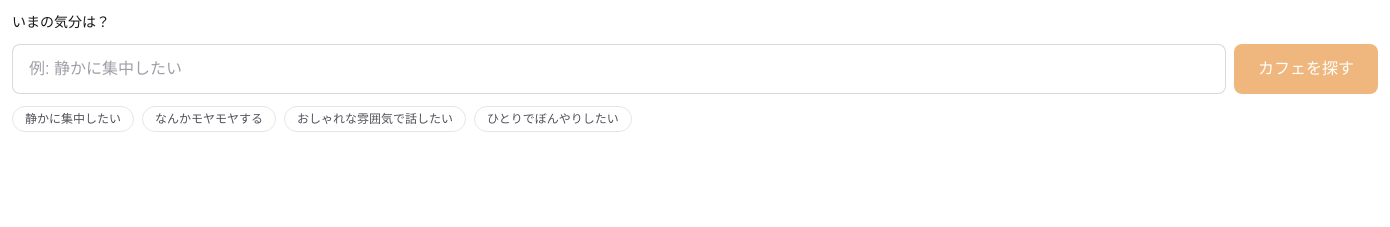
Test: MoodRecommender（統合） › 通信に失敗したらメッセージが出る
Type "静かに集中したい" into the field labelled "いまの気分は？".
click(619, 69); type("静かに集中したい")  # box [12, 44, 1226, 94]
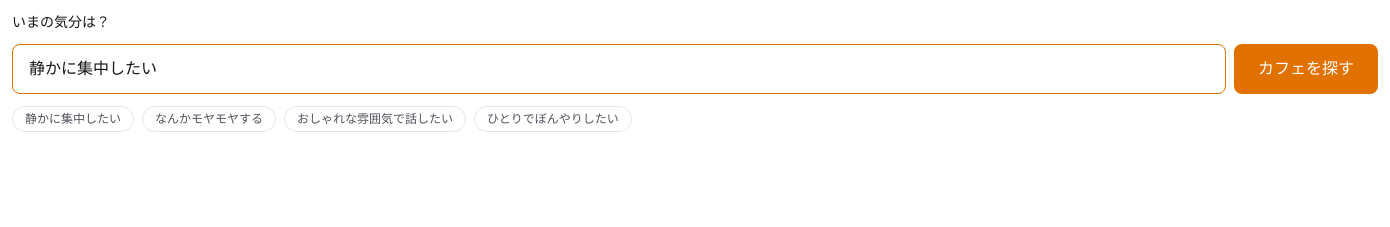
Click the button "カフェを探す".
click(1306, 69)  # box [1234, 44, 1378, 94]
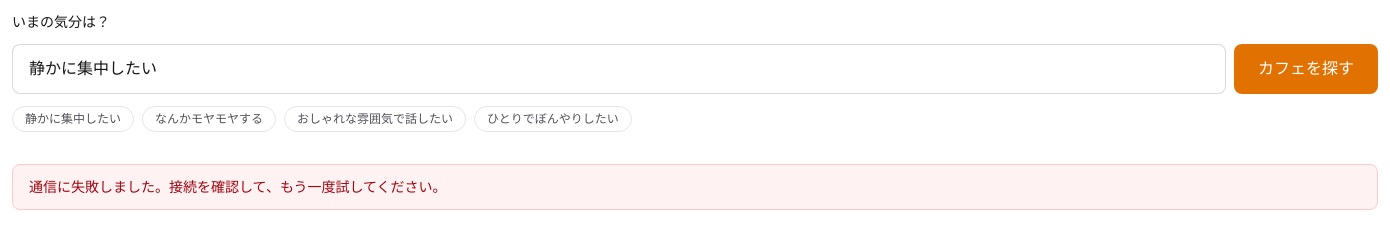
Expected: the message shows "通信に失敗しました", [29, 179, 447, 195]
